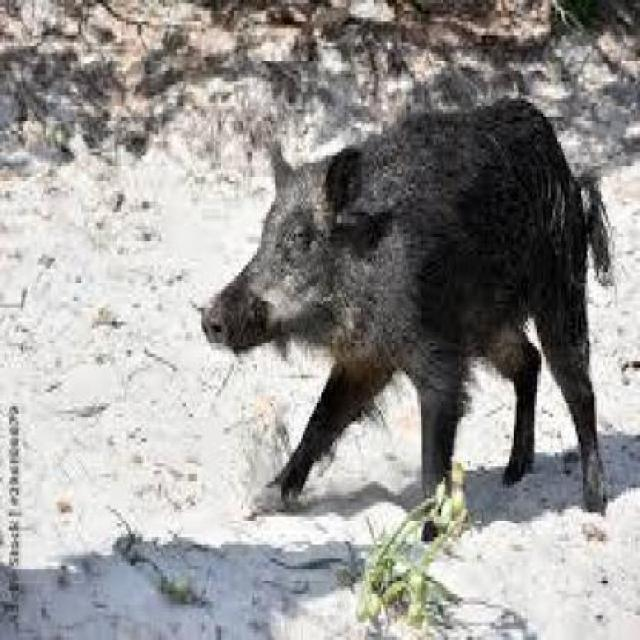wildboar: (195, 84, 613, 544)
